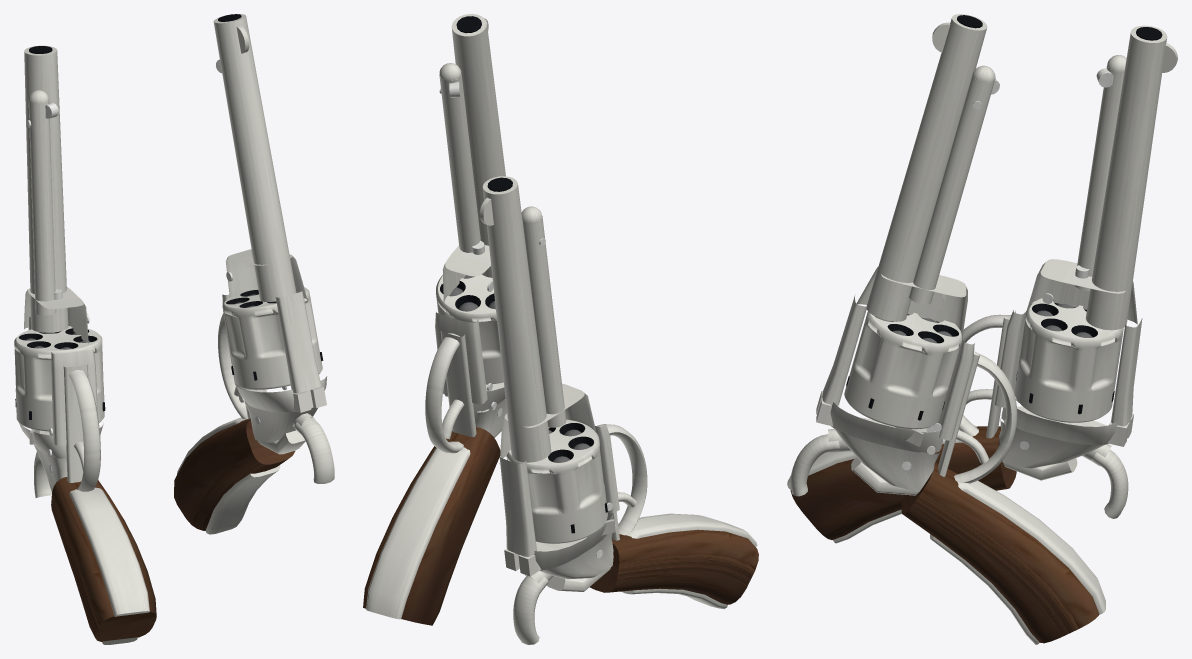
The model's file is gun.nickel-six.glb.
The picture shows the model from 3 angles, left to right: view 1: azimuth 30°, elevation 25°; view 2: azimuth 150°, elevation 25°; view 3: azimuth 270°, elevation 25°; orthographic projection. The views are drawn at different scales.
Parts seen in each view (by area): view 1: revolver (×2); view 2: revolver (×2); view 3: revolver (×2).
Boxes of the visible parts, <box> form: revolver (×2): <box>14,14,334,644</box>; revolver (×2): <box>363,14,758,644</box>; revolver (×2): <box>787,14,1177,644</box>.
Bounding box in the file's own units: 0.1616 × 0.3355 × 0.1944.
Materials: 1 (1 with a texture image).
